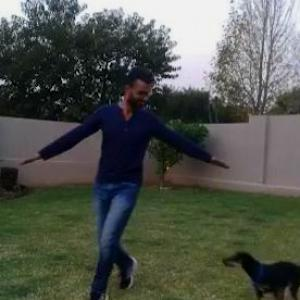land: (42, 72, 230, 279)
